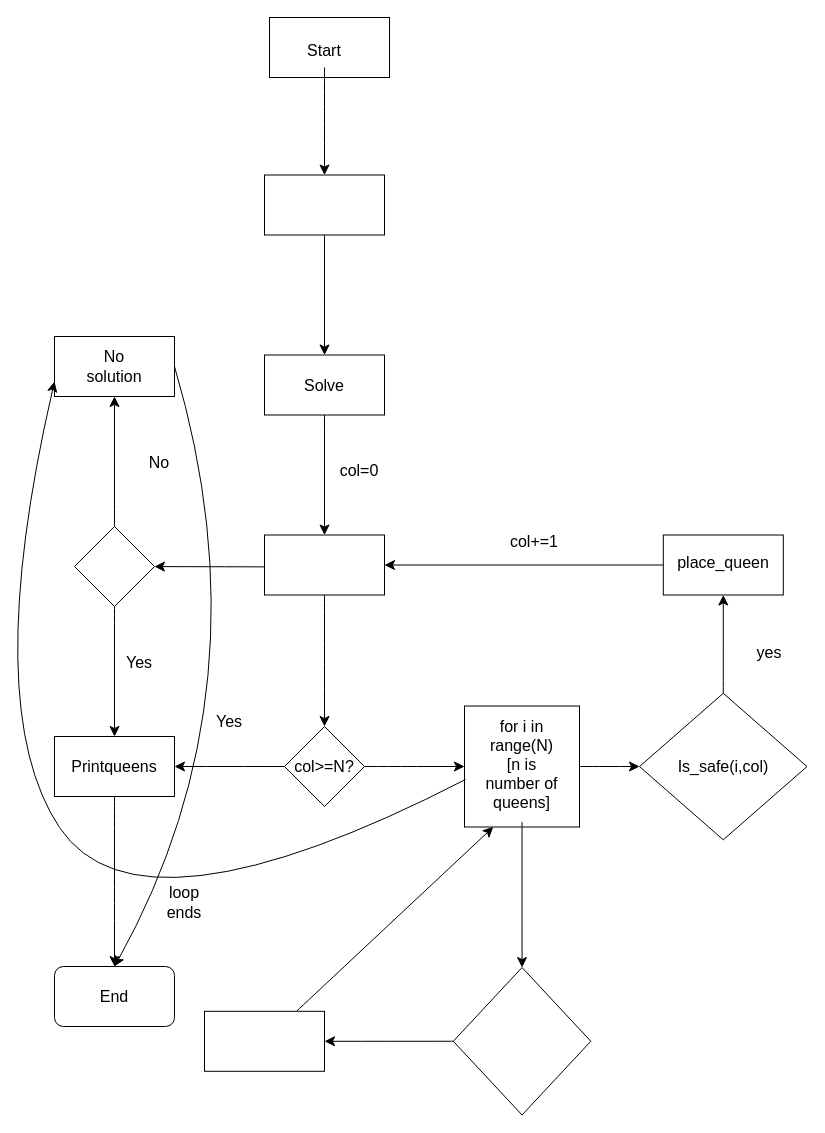
This 825x1133 diagram has some shape labels left out. Here are the shapes that lost their labels. From the top down, the centre of each, then its label:
At pixel 324 204: "queens".
At pixel 114 566: "True?".
At pixel 324 564: "solve n queens until(col)".
At pixel 264 1040: "remove queen".
At pixel 521 1040: "solve n queens until(col+1)".
